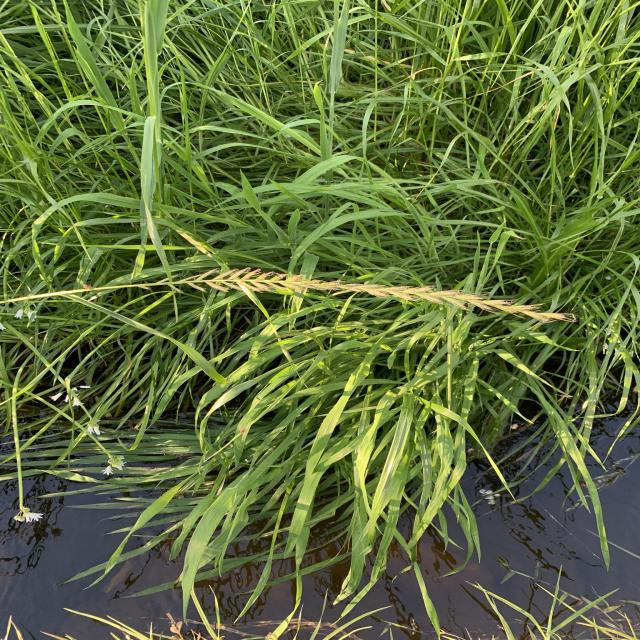Lolium: (167, 266, 577, 328)
